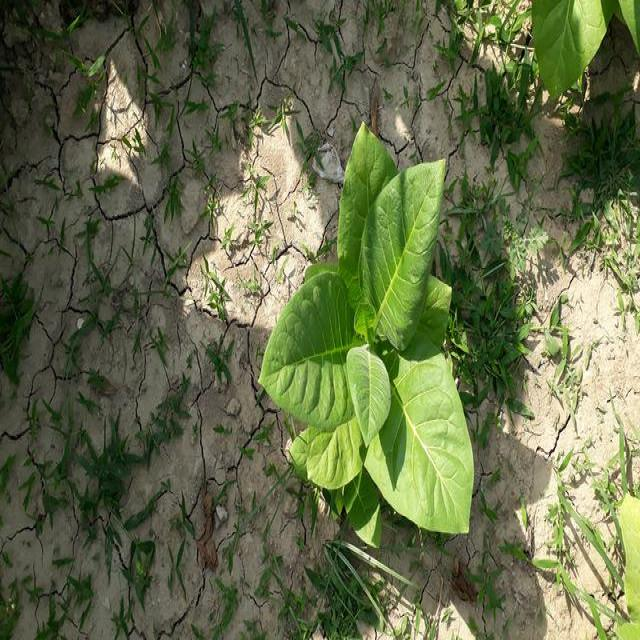crop: (261, 114, 480, 546)
